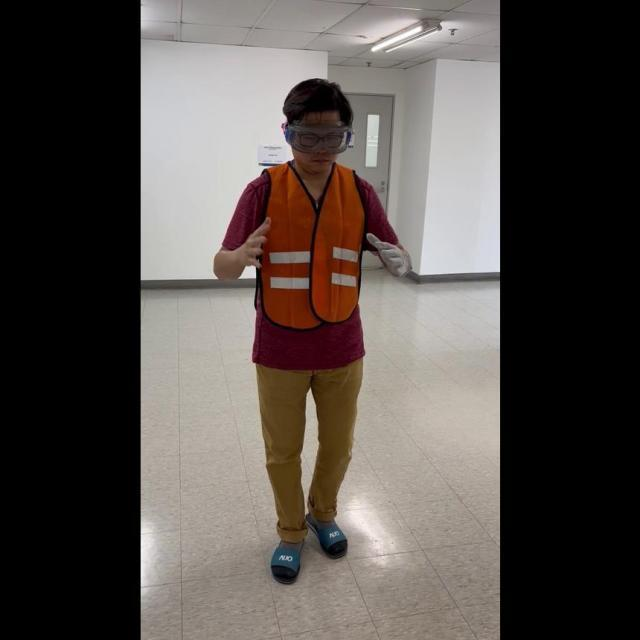bare_hand: (362, 225, 412, 278), (235, 211, 272, 265)
